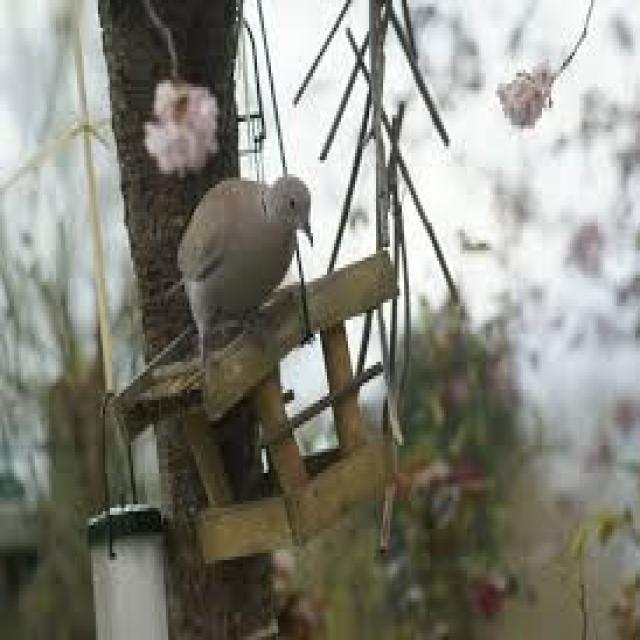pigeon: (153, 156, 319, 352)
